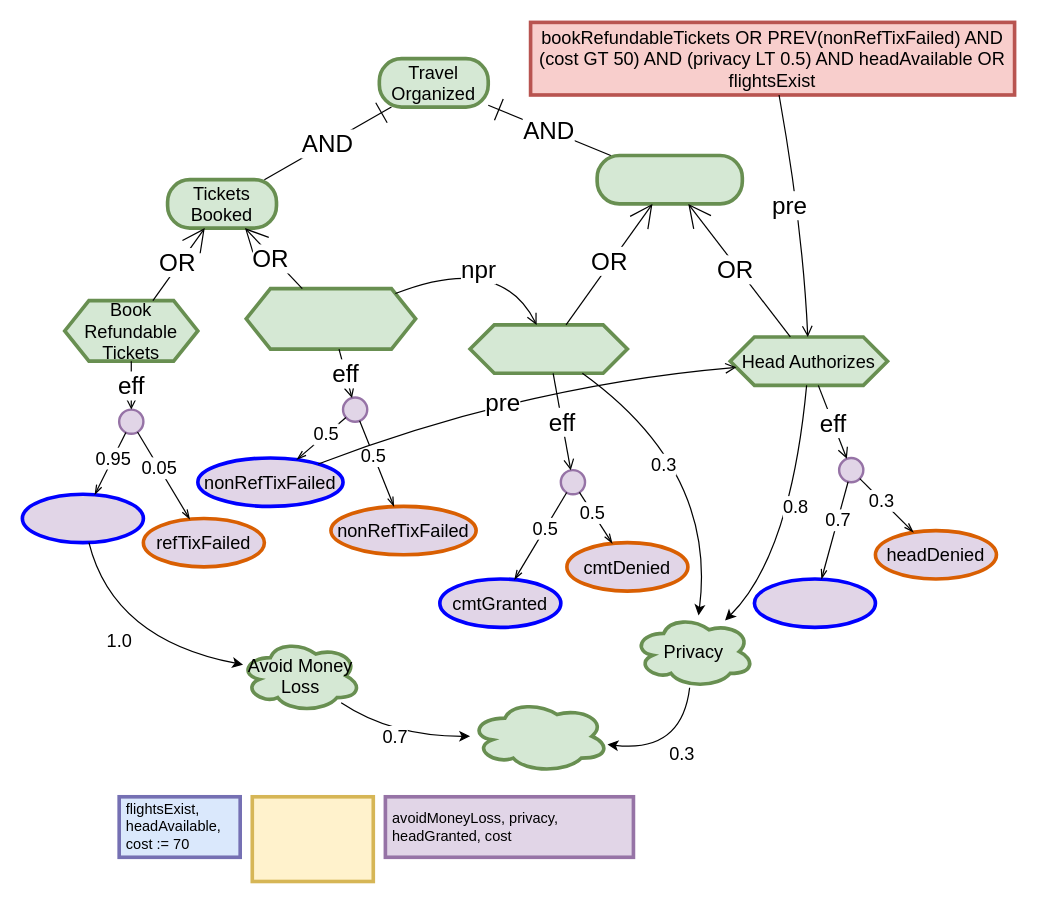
Some shapes in this 1037 by 904 pixel diagram are drawn without their labels. The box of each missing label's shape, as (x1, y1, x2, y2) in pixels:
Authorization Signed: (595, 153, 744, 205)
Book Non-Refundable Tickets: (244, 286, 417, 350)
Committee Authorizes: (468, 322, 629, 374)
headGranted: (752, 577, 877, 629)
Overall Quality: (468, 698, 610, 774)
refTixSucc: (20, 492, 145, 544)
ticketsBooked, overallQuality, cmtGranted, privacy(0,1): (250, 794, 374, 883)
